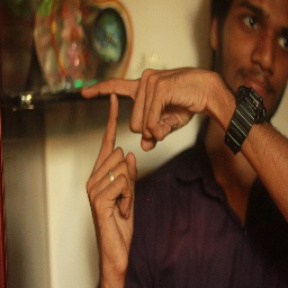T: (69, 62, 147, 191)
